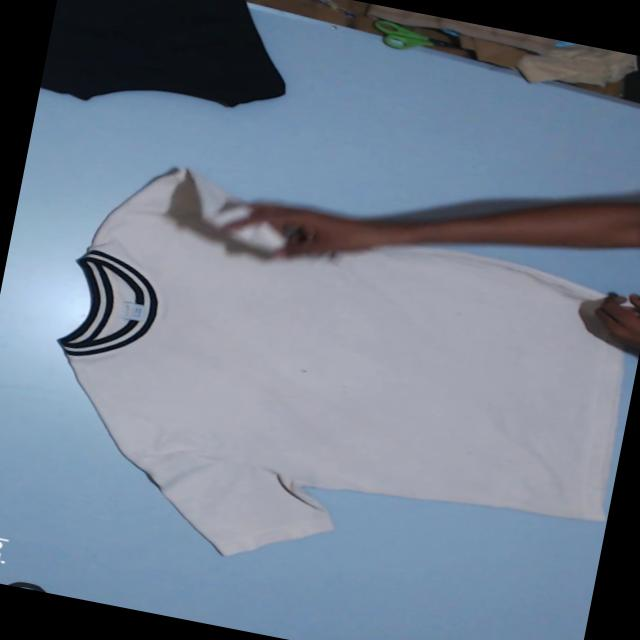new-garment: (60, 169, 622, 555)
